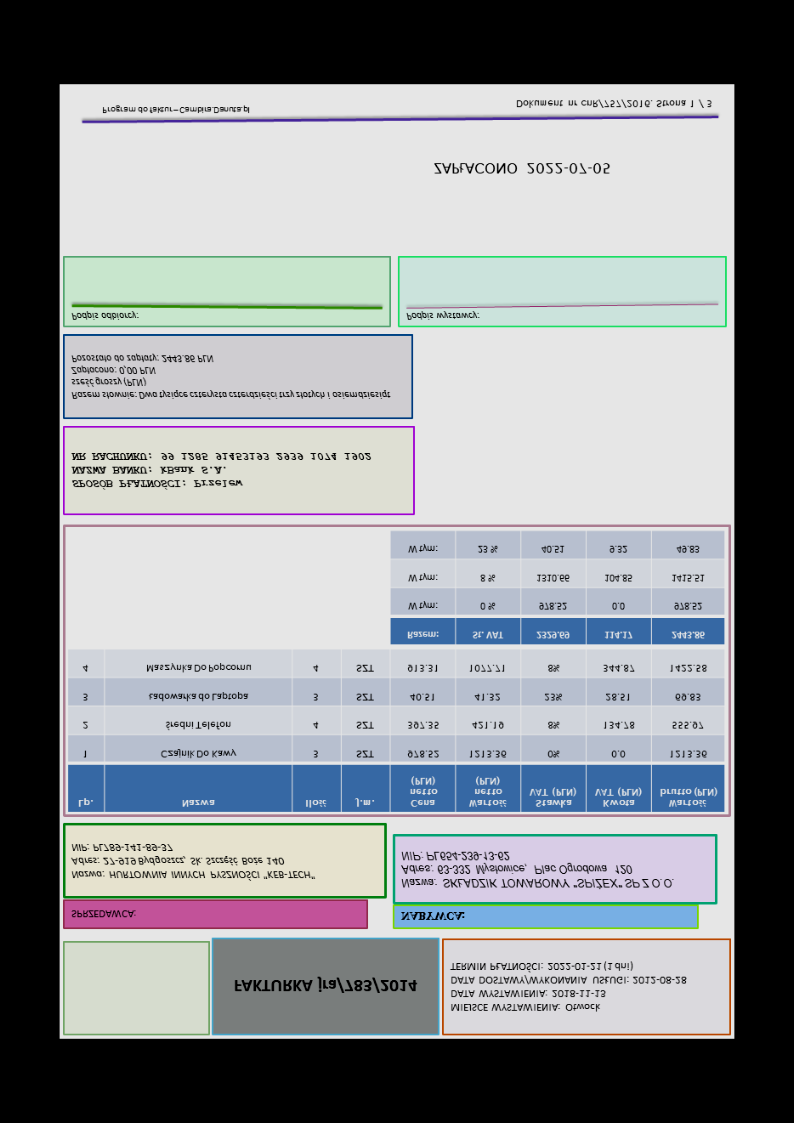Table: (66, 649, 725, 814), (389, 530, 724, 647)
TextBox: (69, 351, 393, 403), (448, 959, 690, 1016), (71, 448, 372, 493), (398, 846, 675, 893), (69, 838, 316, 883), (230, 976, 420, 996), (431, 160, 610, 179), (514, 97, 714, 111), (99, 104, 252, 118), (403, 308, 480, 324), (67, 906, 137, 922), (70, 309, 139, 325), (398, 909, 467, 924)
